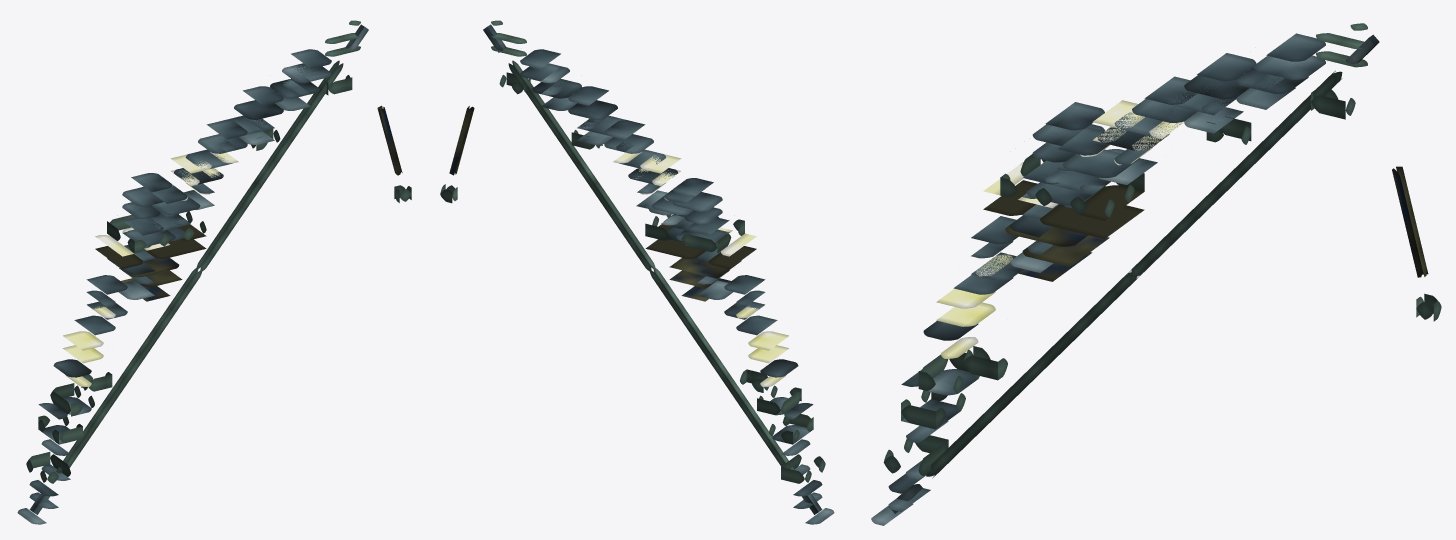
Rendered from deepline_bow.obj.
3 views of the same model, side by side, from view 1: azimuth 30°, elevation 25°; view 2: azimuth 150°, elevation 25°; view 3: azimuth 330°, elevation 25° (orthographic). The views are drawn at different scales.
Visible parts, largest first — view 1: lit; view 2: lit; view 3: lit.
Part boxes in pixels (bbox=[...]): lit: bbox=[17, 20, 411, 524]; lit: bbox=[440, 20, 834, 524]; lit: bbox=[871, 23, 1441, 525].
Size of the model in its own units: 1 by 1.03 by 0.125.
